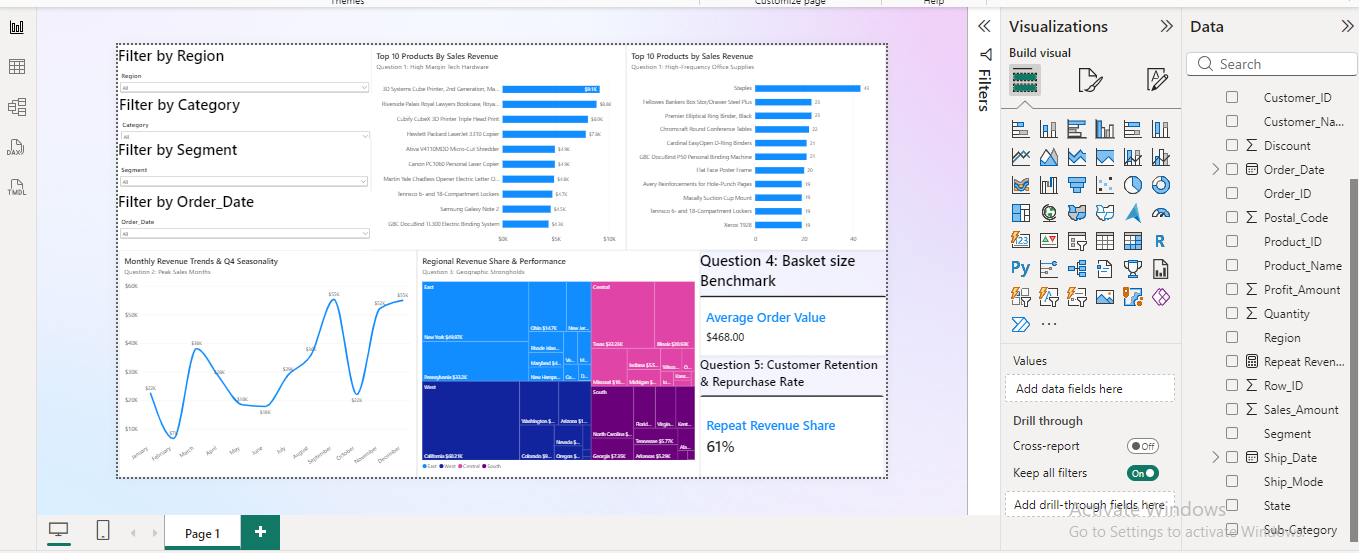

What the dashboard file says about the page in this screenshot:
{"tool":"powerbi","page":{"name":"Page 1","canvas":[1920,1080],"ordinal":0},"visuals":[{"type":"clusteredBarChart","title":"Top 10 Products By Sales Revenue","fields":{"Category":["Sample - Superstore.Product_Name"],"Y":["Sum(Sample - Superstore.Sales_Amount)"]},"box":[632.5,0,637.5,512.5],"z":0},{"type":"clusteredBarChart","title":"Top 10 Products by Sales Revenue","fields":{"Category":["Sample - Superstore.Product_Name"],"Y":["Sum(Sample - Superstore.Quantity)"]},"box":[1270,0,650,512.5],"z":1},{"type":"lineChart","title":"Monthly Revenue Trends & Q4 Seasonality","fields":{"Category":["Sample - Superstore.Order_Date.Variation.Date Hierarchy.Year","Sample - Superstore.Order_Date.Variation.Date Hierarchy.Quarter","Sample - Superstore.Order_Date.Variation.Date Hierarchy.Month","Sample - Superstore.Order_Date.Variation.Date Hierarchy.Day"],"Y":["Sum(Sample - Superstore.Sales_Amount)"]},"box":[2.5,512.5,745,567.5],"z":2},{"type":"treemap","title":"Regional Revenue Share & Performance","fields":{"Details":["Sample - Superstore.State"],"Group":["Sample - Superstore.Region"],"Values":["Sum(Sample - Superstore.Sales_Amount)"]},"box":[747.5,512.5,707.5,567.5],"z":3},{"type":"cardVisual","title":"Question 4: Basket size Benchmark","fields":{"Data":["Sample - Superstore.Average Order Value"]},"box":[1455,512.5,465,265],"z":4},{"type":"cardVisual","title":"Question 5: Customer Retention & Repurchase Rate","fields":{"Data":["Sample - Superstore.Repeat Revenue Share"]},"box":[1455,777.5,460,302.5],"z":5},{"type":"slicer","title":"Filter by Region","fields":{"Values":["Sample - Superstore.Region"]},"box":[0,0,632.5,122.5],"z":6},{"type":"slicer","title":"Filter by Category","fields":{"Values":["Sample - Superstore.Category"]},"box":[2.5,122.5,632.5,112.5],"z":7},{"type":"slicer","title":"Filter by Segment","fields":{"Values":["Sample - Superstore.Segment"]},"box":[0,235,630,130],"z":8},{"type":"slicer","title":"Filter by Order_Date","fields":{"Values":["Sample - Superstore.Order_Date"]},"box":[0,365,635,147.5],"z":9}]}

Visuals, with their boxes on the page's 1920x1080 design canvas (x1, y1, x2, y2). These are canvas units, not pixel positions in the 1359x553 screenshot, which may show the page scaled, cropped or inside an application window:
"Top 10 Products By Sales Revenue" clusteredBarChart: bbox=[632, 0, 1270, 512]
"Top 10 Products by Sales Revenue" clusteredBarChart: bbox=[1270, 0, 1920, 512]
"Monthly Revenue Trends & Q4 Seasonality" lineChart: bbox=[2, 512, 748, 1080]
"Regional Revenue Share & Performance" treemap: bbox=[748, 512, 1455, 1080]
"Question 4: Basket size Benchmark" cardVisual: bbox=[1455, 512, 1920, 778]
"Question 5: Customer Retention & Repurchase Rate" cardVisual: bbox=[1455, 778, 1915, 1080]
"Filter by Region" slicer: bbox=[0, 0, 632, 122]
"Filter by Category" slicer: bbox=[2, 122, 635, 235]
"Filter by Segment" slicer: bbox=[0, 235, 630, 365]
"Filter by Order_Date" slicer: bbox=[0, 365, 635, 512]
